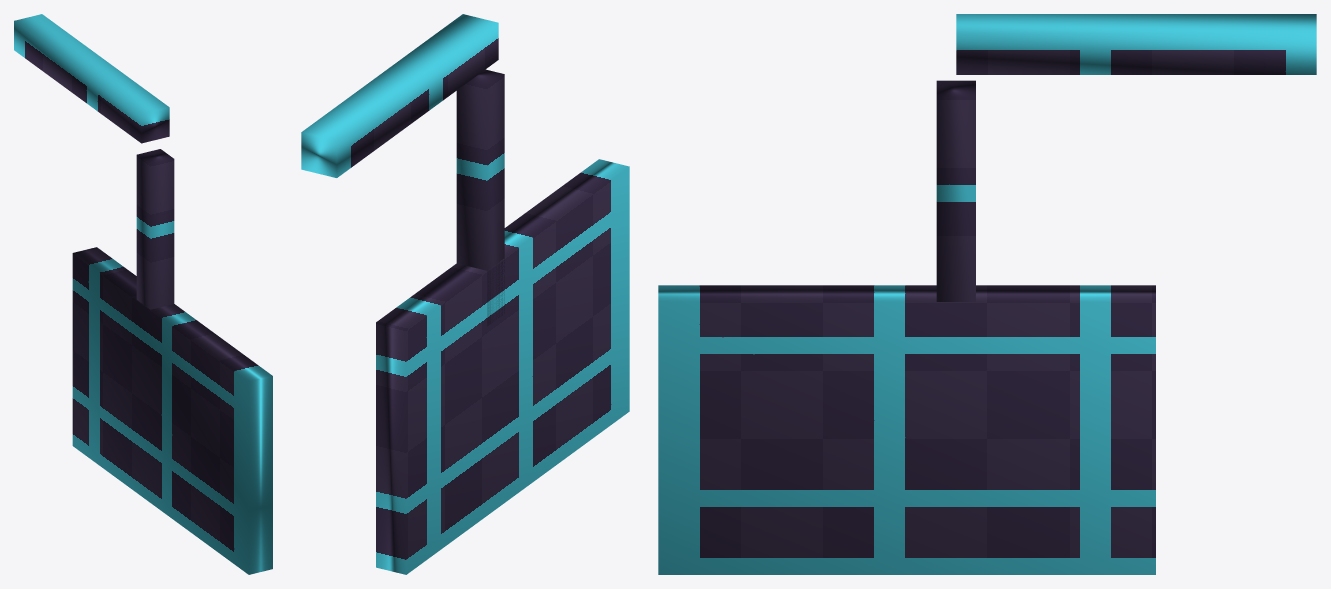
Rendered from SM_Prop_CairoSign_A_LOD1.obj.
3 views of the same model, side by side, from view 1: azimuth 30°, elevation 25°; view 2: azimuth 150°, elevation 25°; view 3: azimuth 270°, elevation 25° (orthographic). The views are drawn at different scales.
Parts seen in each view (by area): view 1: SM_Prop_CairoSign_A_LOD1; view 2: SM_Prop_CairoSign_A_LOD1; view 3: SM_Prop_CairoSign_A_LOD1.
Boxes of the visible parts, x1=… form: SM_Prop_CairoSign_A_LOD1: x1=14, y1=14, x2=272, y2=574; SM_Prop_CairoSign_A_LOD1: x1=301, y1=14, x2=629, y2=574; SM_Prop_CairoSign_A_LOD1: x1=658, y1=14, x2=1316, y2=574.
Size of the model in its own units: 0.14 by 1.83 by 2.01.
Materials: 1 (1 with a texture image).
